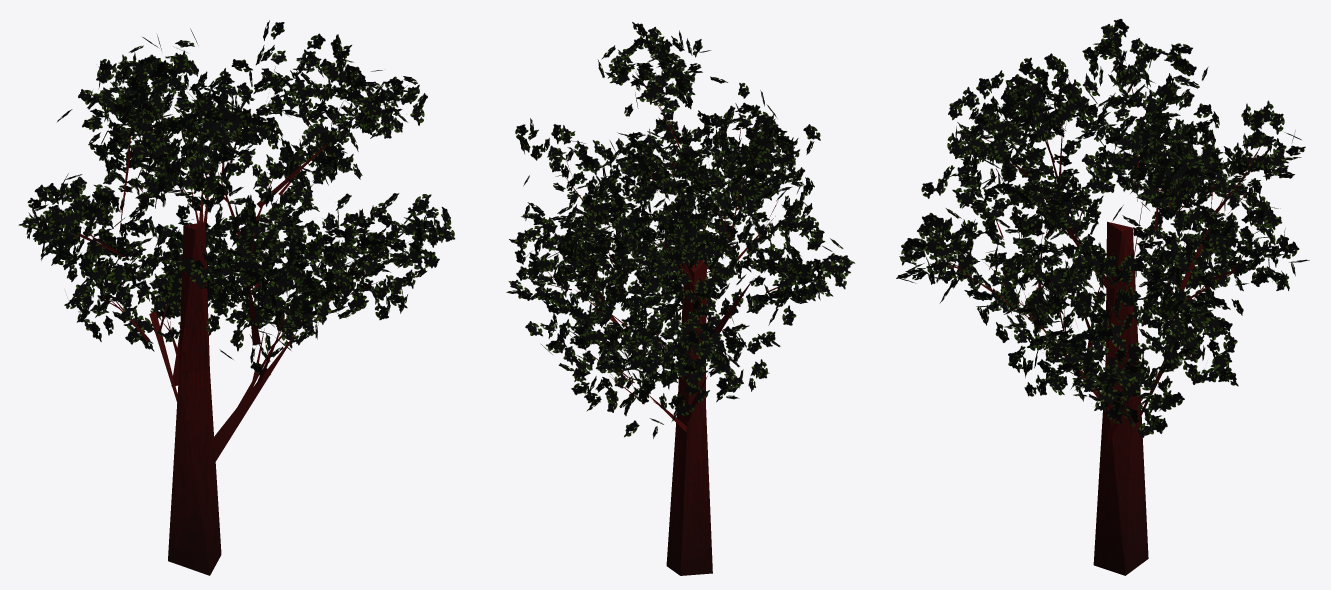
File: broadleaf_giant_v02_LOD2.glb
3 views of the same model, side by side, from view 1: azimuth 30°, elevation 25°; view 2: azimuth 150°, elevation 25°; view 3: azimuth 270°, elevation 25° (orthographic). The views are drawn at different scales.
Visible parts, largest first — view 1: broadleaf_giant_v02_LOD2; view 2: broadleaf_giant_v02_LOD2; view 3: broadleaf_giant_v02_LOD2.
Boxes of the visible parts, <box> form: broadleaf_giant_v02_LOD2: <box>18,20,455,575</box>; broadleaf_giant_v02_LOD2: <box>506,22,855,575</box>; broadleaf_giant_v02_LOD2: <box>896,19,1309,575</box>.
Size of the model in its own units: 30.6 by 38.68 by 27.94.
2 materials, 2 textured.
